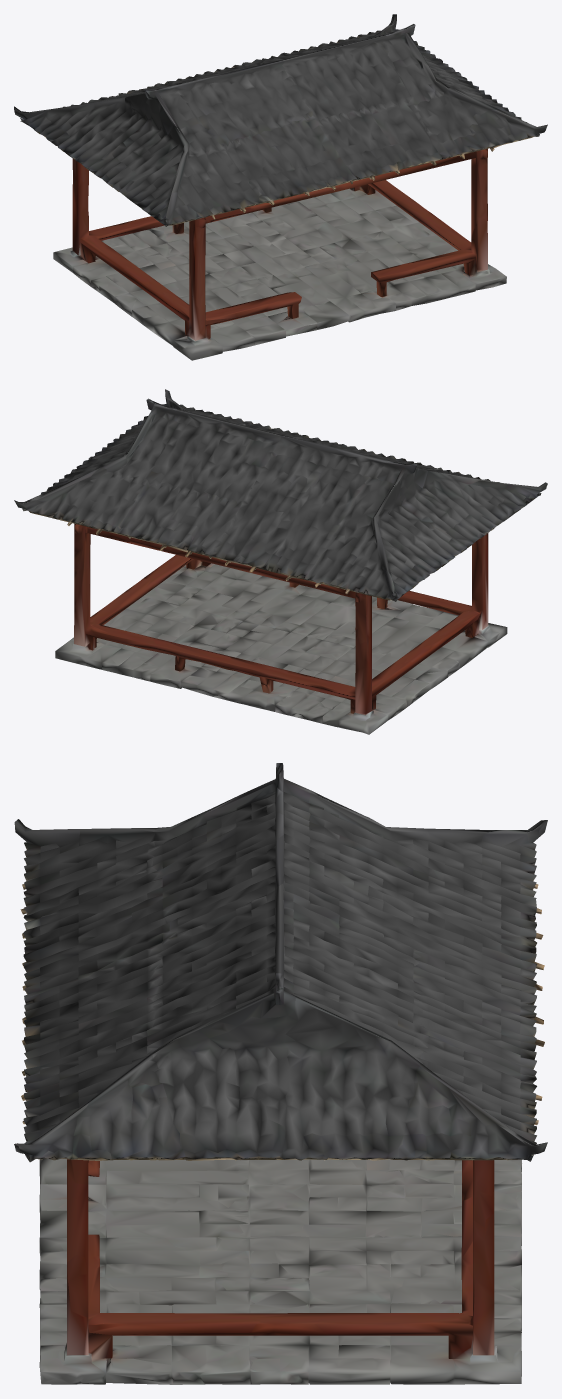
File: station_茶寮.glb
3 renders of one model, top to bottom at view 1: azimuth 30°, elevation 25°; view 2: azimuth 150°, elevation 25°; view 3: azimuth 270°, elevation 25°, orthographic. The views are drawn at different scales.
Visible parts, largest first — view 1: tripo_node_abadadc8-4202-4efe-b261-8bf8c93a7ca2; view 2: tripo_node_abadadc8-4202-4efe-b261-8bf8c93a7ca2; view 3: tripo_node_abadadc8-4202-4efe-b261-8bf8c93a7ca2.
Part boxes in pixels (left/top/right/bottom): tripo_node_abadadc8-4202-4efe-b261-8bf8c93a7ca2: left=14, top=14, right=547, bottom=360; tripo_node_abadadc8-4202-4efe-b261-8bf8c93a7ca2: left=14, top=389, right=547, bottom=734; tripo_node_abadadc8-4202-4efe-b261-8bf8c93a7ca2: left=14, top=763, right=547, bottom=1384.
Size of the model in its own units: 1.5 by 0.7995 by 1.03.
